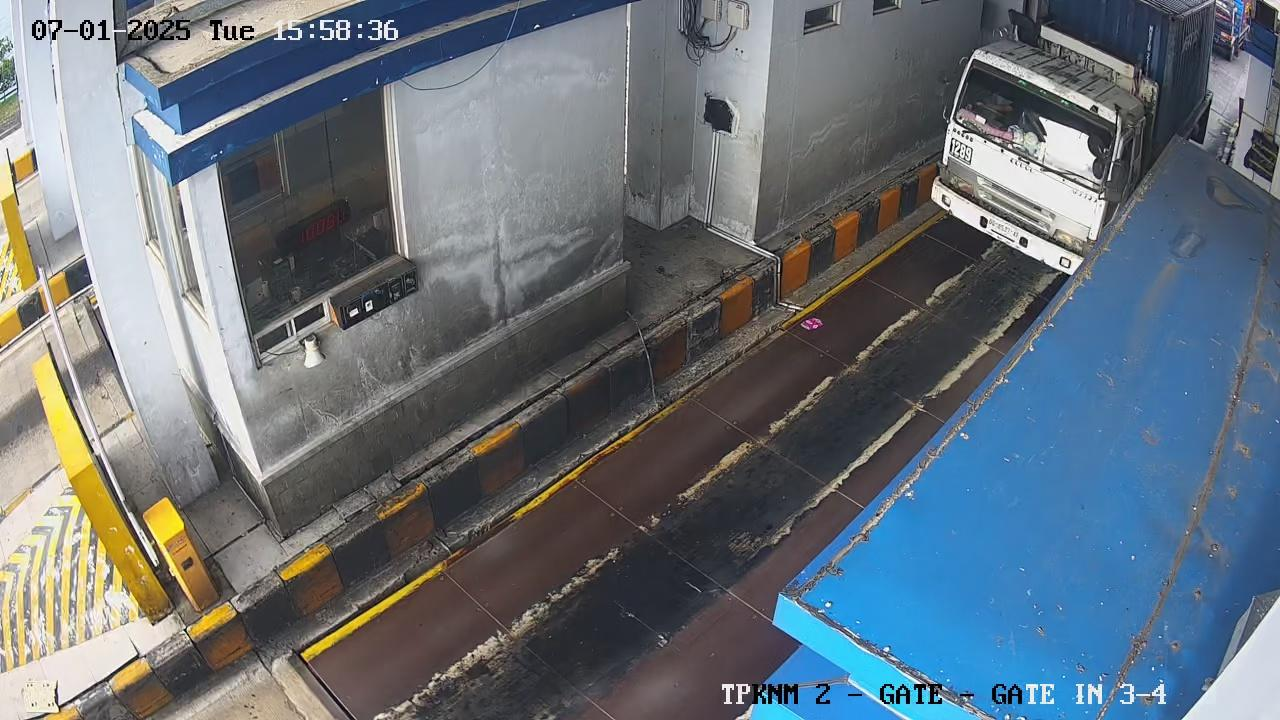truck_id: (941, 126, 986, 171)
